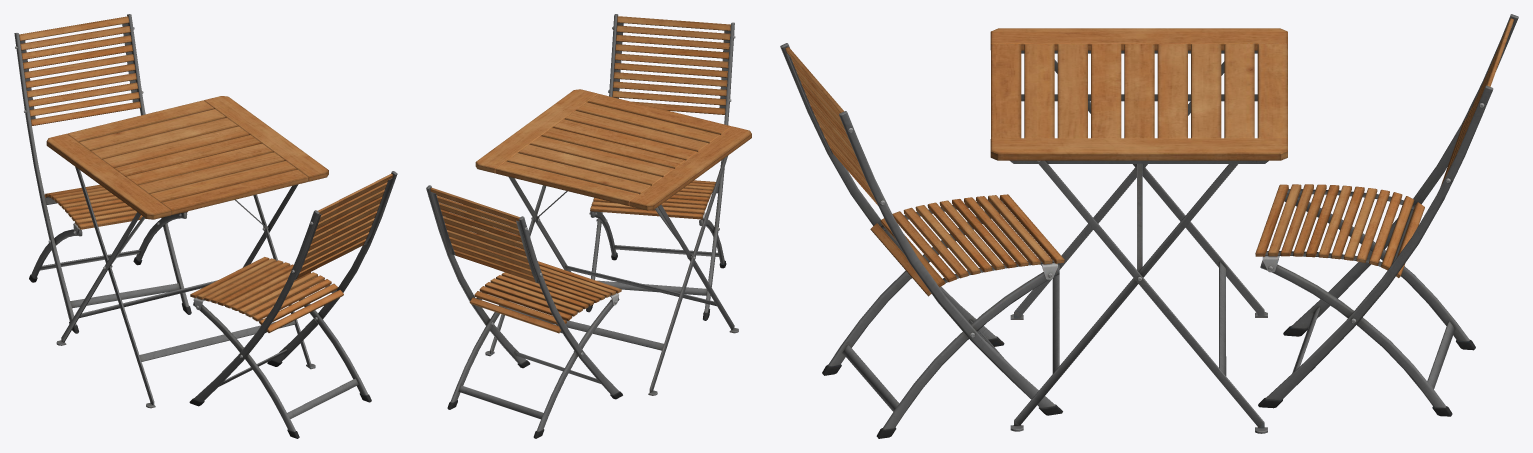
3 renders of one model, left to right at view 1: azimuth 30°, elevation 25°; view 2: azimuth 150°, elevation 25°; view 3: azimuth 270°, elevation 25°, orthographic. The views are drawn at different scales.
Parts seen in each view (by area): view 1: outdoor_table_chair_set_01_chair_01; view 2: outdoor_table_chair_set_01_chair_01; view 3: outdoor_table_chair_set_01_chair_01.
Part boxes in pixels (x1,y1,x2,y2): outdoor_table_chair_set_01_chair_01: (14, 14, 397, 438); outdoor_table_chair_set_01_chair_01: (426, 14, 751, 438); outdoor_table_chair_set_01_chair_01: (780, 14, 1518, 438).
Bounding box in the file's own units: 0.7418 × 0.8586 × 1.72.
Materials: 2 (2 with a texture image).
